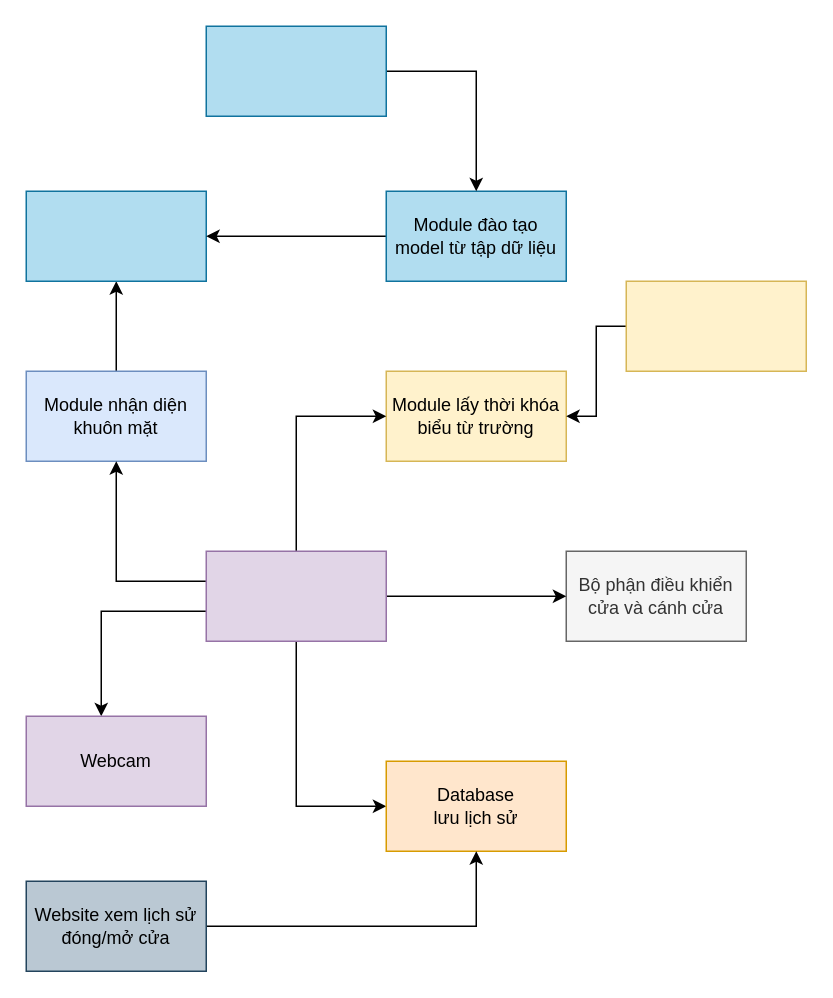
This 833x998 diagram has some shape labels left out. Each missing label, with the box of its shape:
Model nhận diện đã được đào tạo: (25, 190, 206, 281)
Module lấy hình ảnh và xử lý dữ liệu: (205, 550, 386, 641)
Tập dữ liệu khuôn mặt: (205, 25, 386, 116)
Website DKMH của trường: (625, 280, 806, 371)
